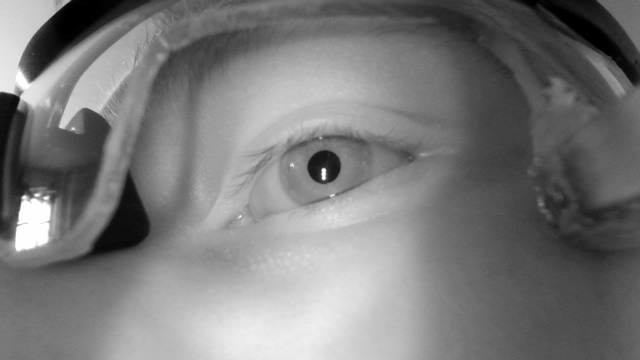pupil: (307, 150, 342, 185)
